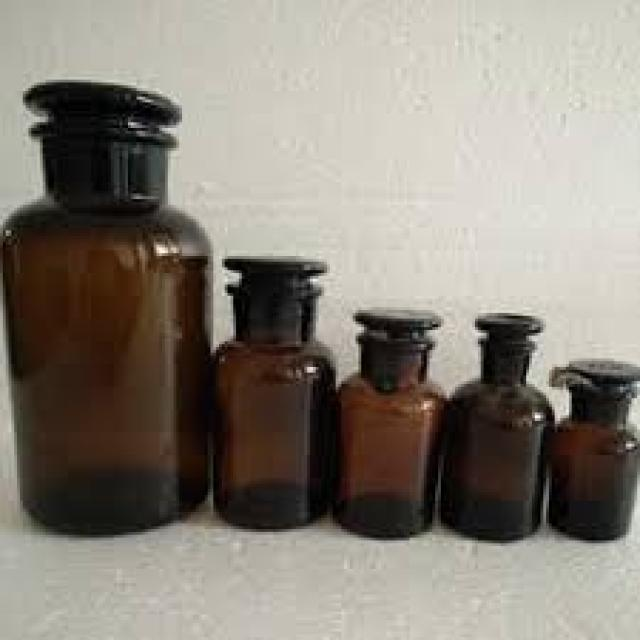glass: (0, 82, 208, 535), (210, 256, 333, 529), (339, 305, 444, 538), (444, 310, 549, 540), (546, 359, 637, 541)
